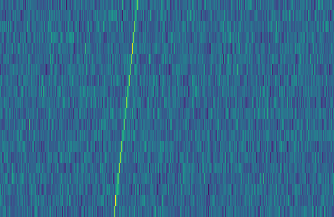signal: (108, 0, 141, 217)
